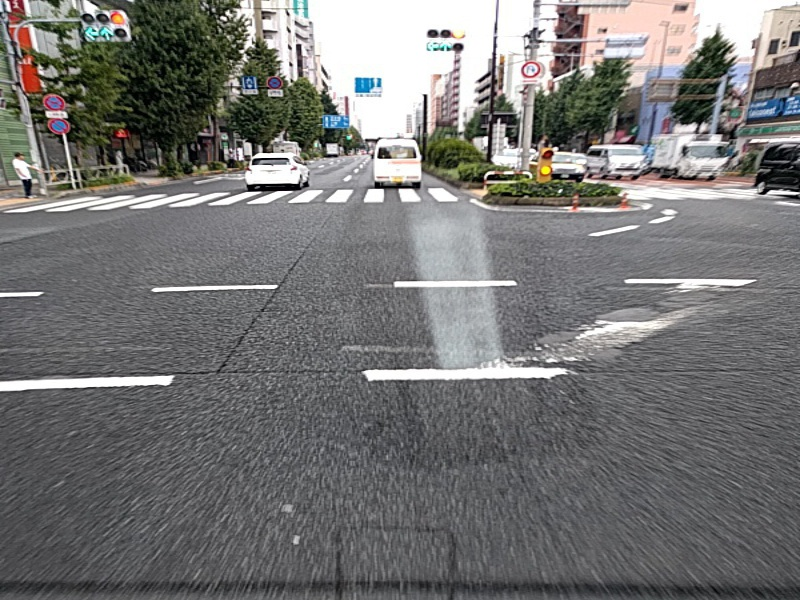long_crack: (202, 209, 351, 370)
